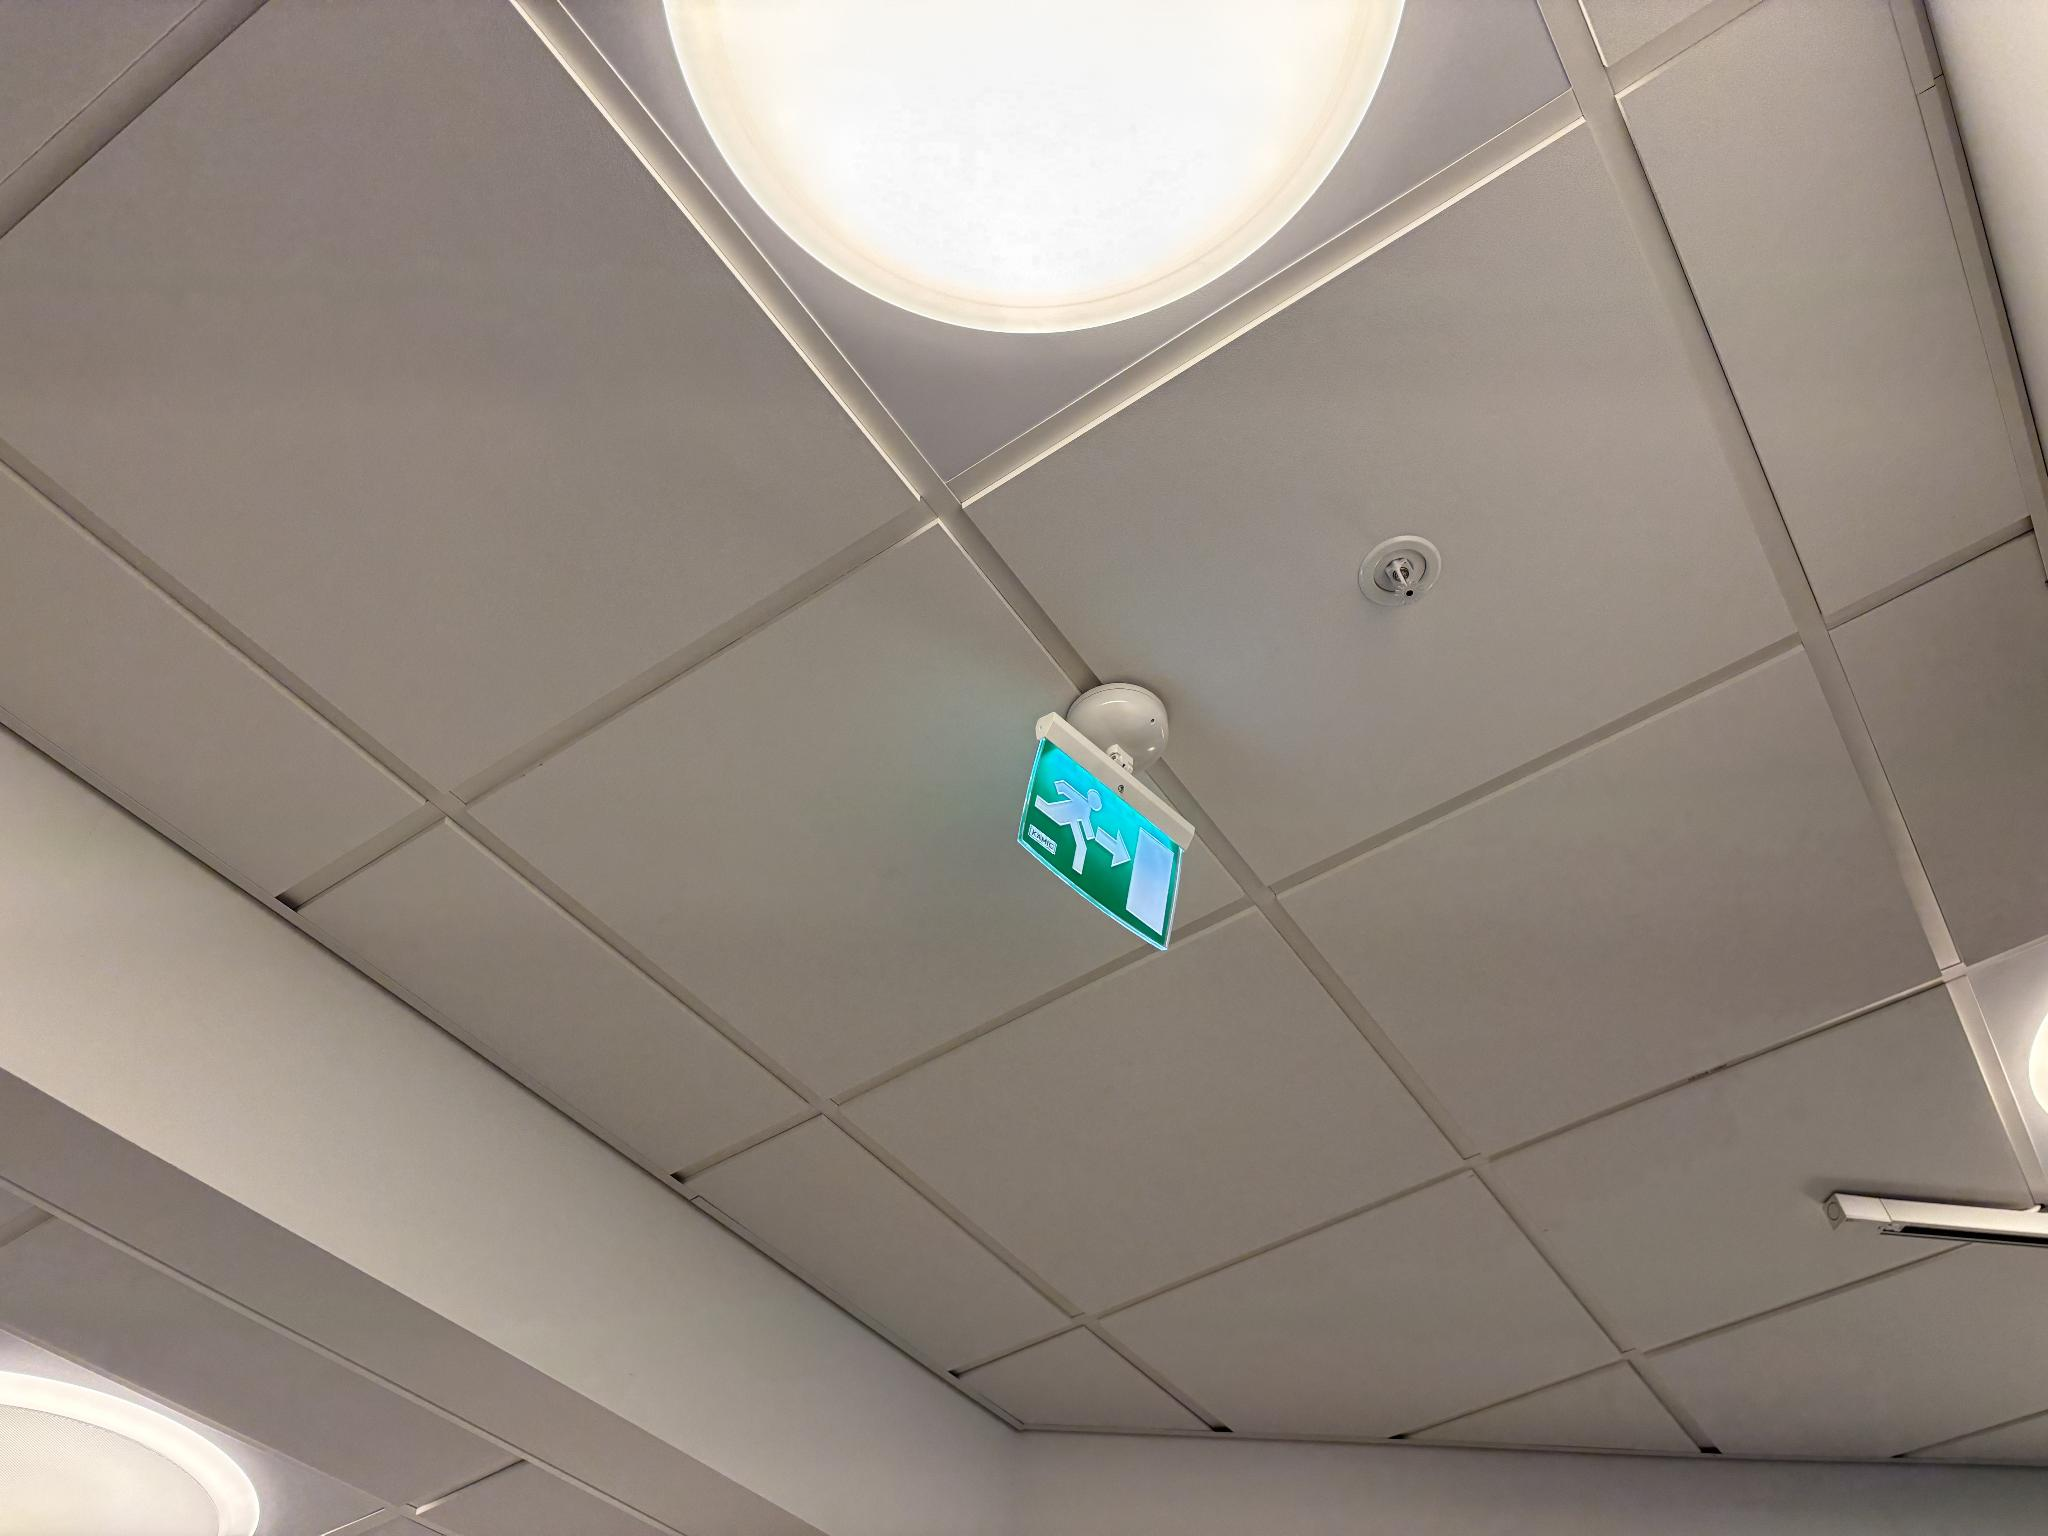exit_sign: (1037, 739, 1180, 931)
